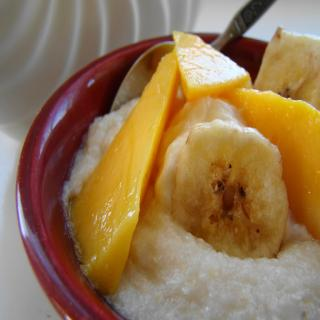Mango: (71, 53, 180, 295), (226, 92, 320, 240), (174, 31, 253, 102)
